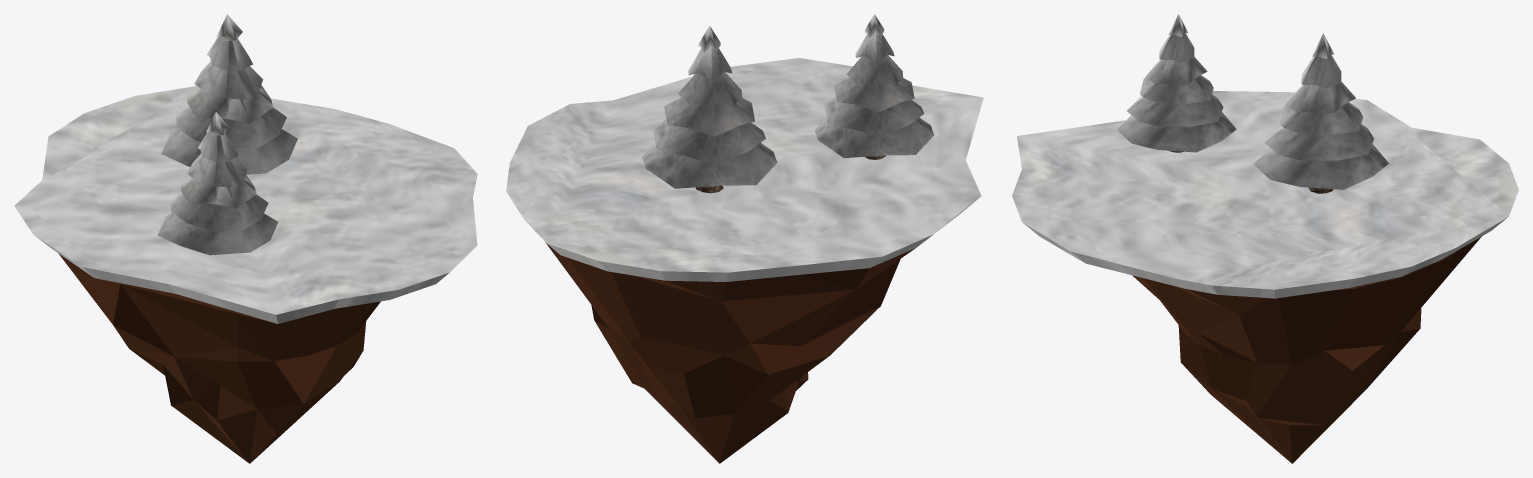
Rendered from ostrvo1.obj.
3 views of the same model, side by side, from view 1: azimuth 30°, elevation 25°; view 2: azimuth 150°, elevation 25°; view 3: azimuth 270°, elevation 25° (orthographic). The views are drawn at different scales.
Visible parts, largest first — view 1: Island_Grass_Cylinder.004, Island_Cylinder.003, Tree_Behind_Plant_Cylinder.005, Tree_Mid_Plant_Cylinder.009; view 2: Island_Grass_Cylinder.004, Island_Cylinder.003, Tree_Behind_Plant_Cylinder.005, Tree_Mid_Plant_Cylinder.009; view 3: Island_Grass_Cylinder.004, Island_Cylinder.003, Tree_Behind_Plant_Cylinder.005, Tree_Mid_Plant_Cylinder.009.
Boxes of the visible parts, <box> form: Island_Grass_Cylinder.004: <box>14,86,477,323</box>; Island_Cylinder.003: <box>58,253,380,463</box>; Tree_Behind_Plant_Cylinder.005: <box>161,14,297,174</box>; Tree_Mid_Plant_Cylinder.009: <box>157,112,277,255</box>; Island_Grass_Cylinder.004: <box>506,58,983,281</box>; Island_Cylinder.003: <box>545,242,915,463</box>; Tree_Behind_Plant_Cylinder.005: <box>642,26,777,188</box>; Tree_Mid_Plant_Cylinder.009: <box>814,14,933,158</box>; Island_Grass_Cylinder.004: <box>1012,91,1518,298</box>; Island_Cylinder.003: <box>1132,236,1481,463</box>; Tree_Behind_Plant_Cylinder.005: <box>1253,33,1388,189</box>; Tree_Mid_Plant_Cylinder.009: <box>1117,14,1236,152</box>.
Bounding box in the file's own units: 5.89 × 6.07 × 6.52.
6 materials, 5 textured.
